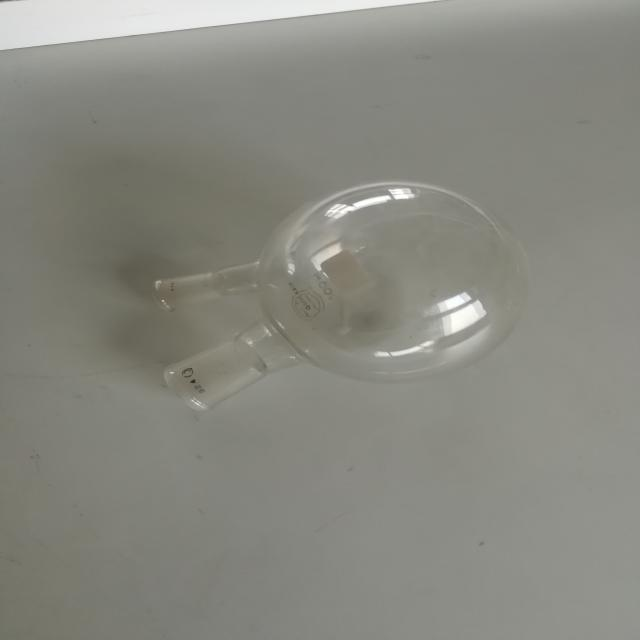Round_Bottom_Flask_Borosilicate_Glass_2_Neck: (14, 157, 592, 467)
